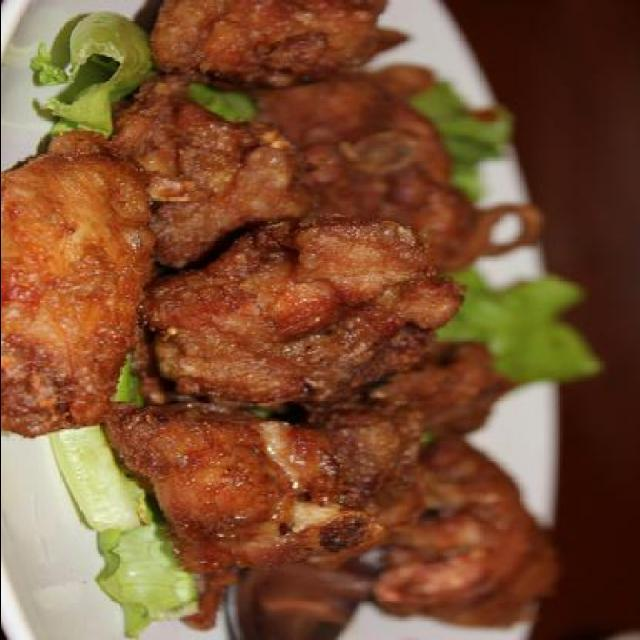Deep fried chicken wing: (33, 18, 556, 616)
